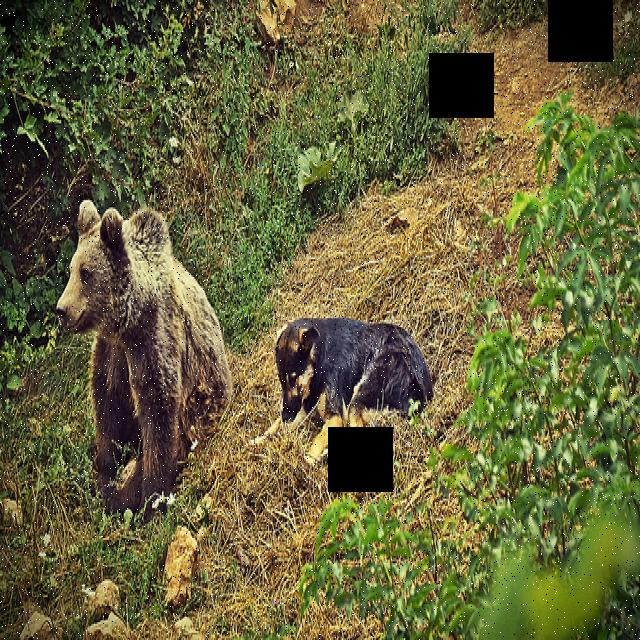Bear: (55, 194, 235, 517)
